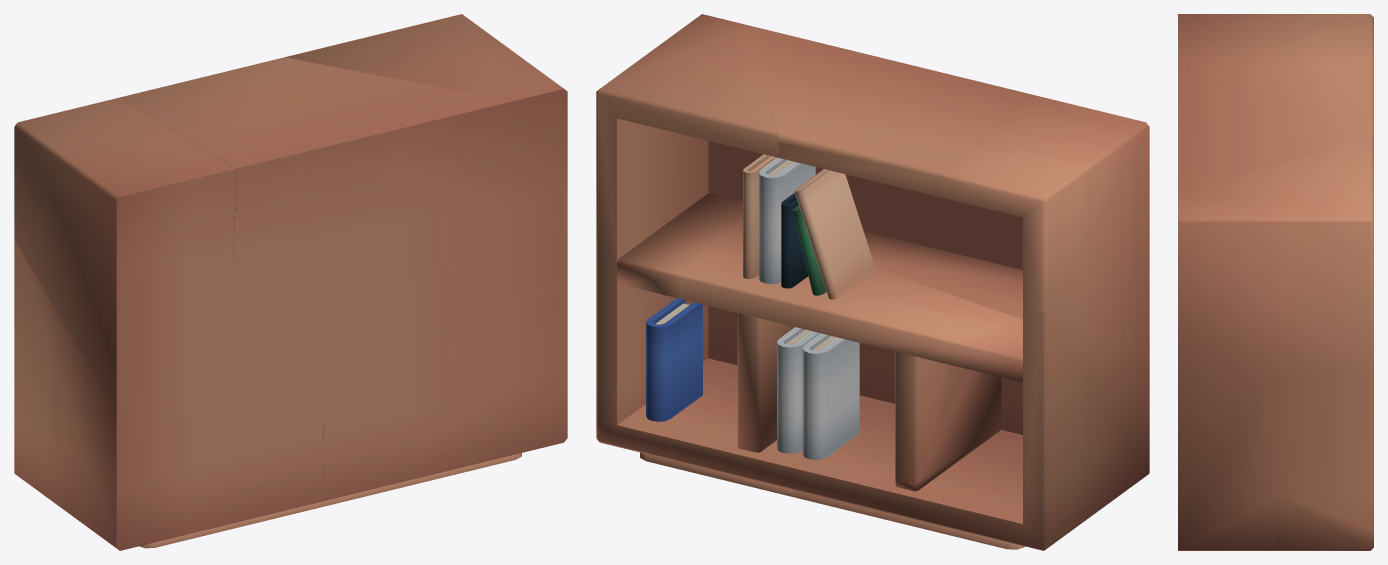
The model's file is Shelves1.fbx.
3 views of the same model, side by side, from view 1: azimuth 30°, elevation 25°; view 2: azimuth 150°, elevation 25°; view 3: azimuth 270°, elevation 25° (orthographic). The views are drawn at different scales.
Visible parts, largest first — view 1: BookShelves1.002_cell.003, BookShelves1.002_cell.005, BookShelves1.002_cell.001, BookShelves1.002_cell.007, BookShelves1.002_cell.004, BookShelves1.001_cell.001, BookShelves1.001_cell.003; view 2: BookShelves1.002_cell.001, BookShelves1.002_cell.003, BookShelves1.002_cell.005, BookShelves1.002_cell.004, BookShelves1.003_cell.001, BookShelves1.003_cell.002, BookShelves1.002_cell.006, BookShelves1.002_cell.002, BookShelves1.002_cell.007, BookShelves1.003_cell.003, Books.058, BookShelves1.003_cell.004 (+10 smaller); view 3: BookShelves1.002_cell.004, BookShelves1.002_cell.003, BookShelves1.002_cell.007, BookShelves1.002_cell.002, BookShelves1.002_cell.005, BookShelves1.002_cell.006.
Boxes of the visible parts, left/top/right/bottom form: BookShelves1.002_cell.003: left=118, top=57, right=513, bottom=415; BookShelves1.002_cell.005: left=14, top=98, right=236, bottom=414; BookShelves1.002_cell.001: left=14, top=239, right=323, bottom=550; BookShelves1.002_cell.007: left=323, top=212, right=567, bottom=500; BookShelves1.002_cell.004: left=285, top=14, right=567, bottom=231; BookShelves1.001_cell.001: left=139, top=497, right=342, bottom=548; BookShelves1.001_cell.003: left=342, top=453, right=521, bottom=501; BookShelves1.002_cell.001: left=806, top=307, right=1149, bottom=550; BookShelves1.002_cell.003: left=752, top=26, right=1028, bottom=269; BookShelves1.002_cell.005: left=942, top=94, right=1149, bottom=340; BookShelves1.002_cell.004: left=596, top=14, right=779, bottom=261; BookShelves1.003_cell.001: left=808, top=268, right=1022, bottom=483; BookShelves1.003_cell.002: left=680, top=222, right=822, bottom=452; BookShelves1.002_cell.006: left=596, top=379, right=867, bottom=493; BookShelves1.002_cell.002: left=596, top=254, right=670, bottom=422; BookShelves1.002_cell.007: left=670, top=167, right=895, bottom=426; BookShelves1.003_cell.003: left=617, top=193, right=742, bottom=298; Books.058: left=802, top=333, right=859, bottom=459; BookShelves1.003_cell.004: left=863, top=231, right=1022, bottom=372; BookShelves1.002_cell.004: left=1178, top=136, right=1373, bottom=381; BookShelves1.002_cell.003: left=1178, top=60, right=1373, bottom=194; BookShelves1.002_cell.007: left=1178, top=337, right=1279, bottom=550; BookShelves1.002_cell.002: left=1267, top=374, right=1373, bottom=530; BookShelves1.002_cell.005: left=1178, top=14, right=1373, bottom=67; BookShelves1.002_cell.006: left=1275, top=492, right=1373, bottom=550.
Size of the model in its own units: 0.6103 by 1.53 by 1.18.
